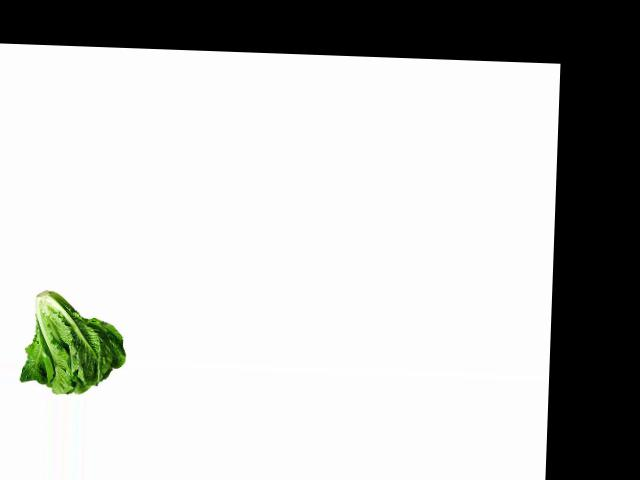lettuce: (21, 284, 129, 397)
